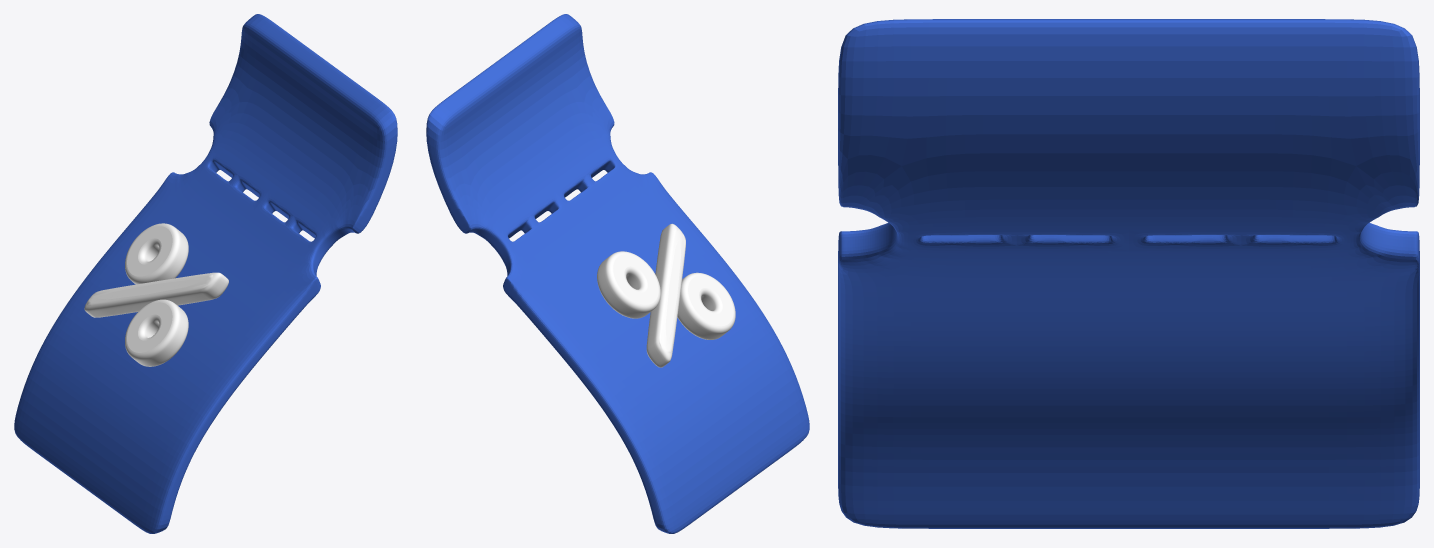
The model's file is receipt.fbx.
3 views of the same model, side by side, from view 1: azimuth 30°, elevation 25°; view 2: azimuth 150°, elevation 25°; view 3: azimuth 270°, elevation 25° (orthographic). The views are drawn at different scales.
Visible parts, largest first — view 1: receipt, Text; view 2: receipt, Text; view 3: receipt.
Part boxes in pixels (x1,y1,x2,y2): receipt: (14,14,397,533); Text: (84,223,228,366); receipt: (426,14,809,533); Text: (597,223,735,367); receipt: (838,19,1419,528).
Bounding box in the file's own units: 461 × 659 × 472.
